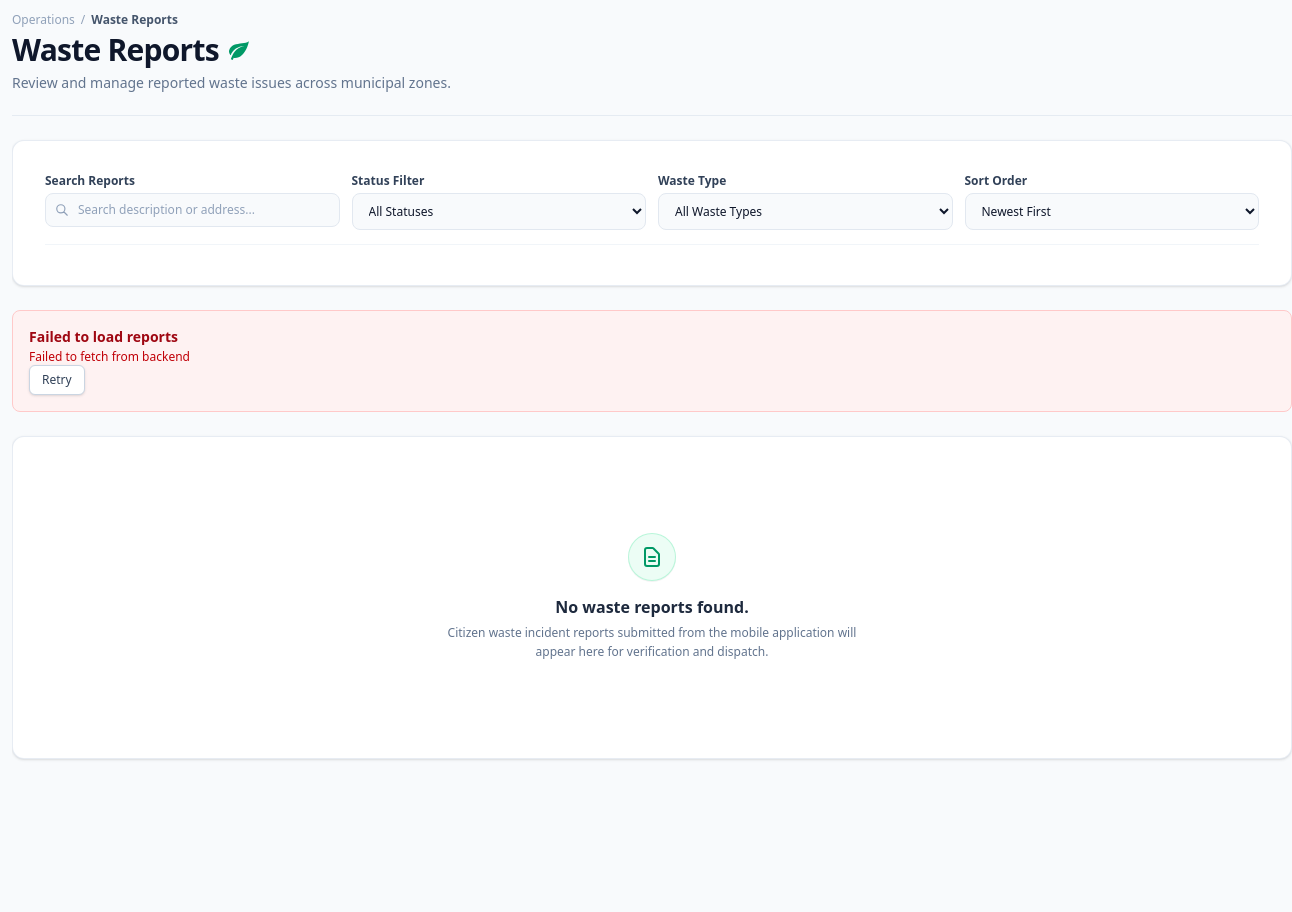
Test case: WasteReportsPage (Operational List) › renders inline error alert with Retry button on API failure
The width and height of the screenshot is (1292, 912).
Expected: the text "Failed to load reports" is shown, [29,327,190,347]
Expected: the text "Failed to fetch from backend" is shown, [29,349,190,365]
Click the button "Retry" at {"x": 57, "y": 380}, box [29,365,85,395]
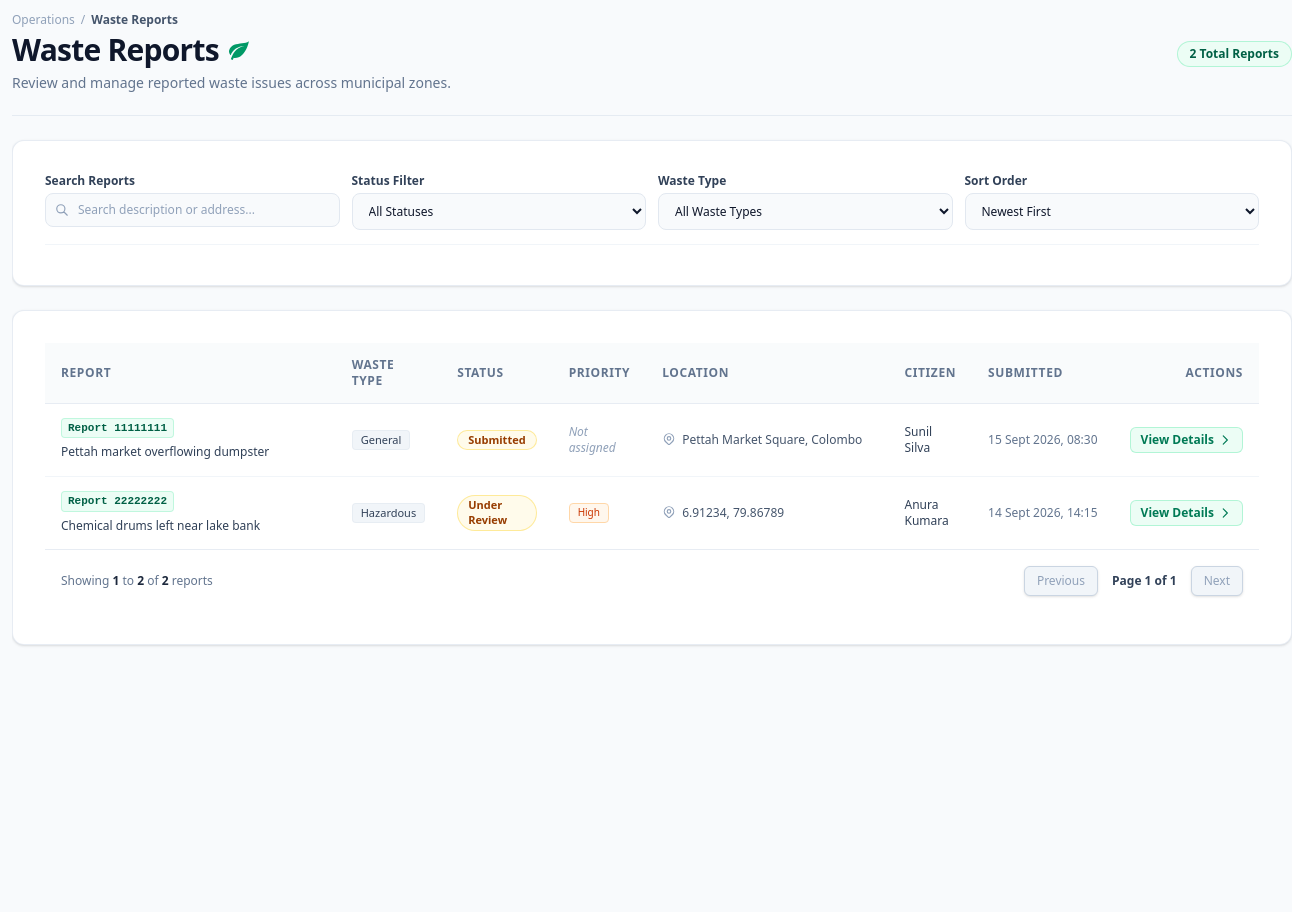
Expected: the text "Pettah market overflowing dumpster" is shown, [61,443,269,460]
